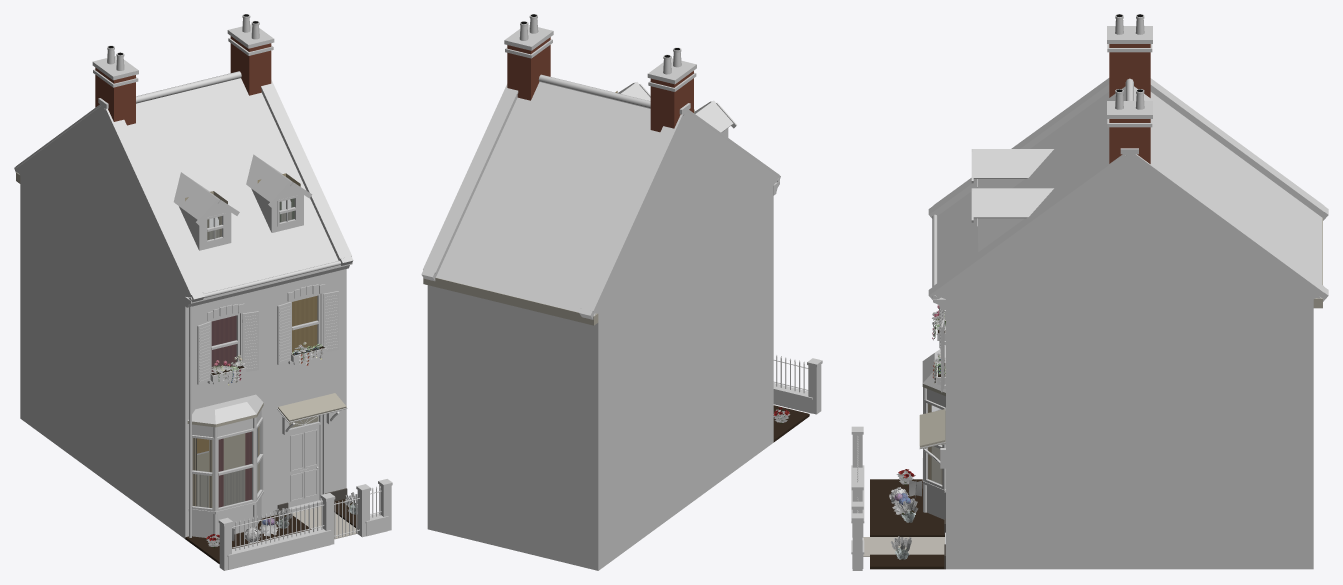
The model's file is Opposite_Opposite2_3.glb.
3 renders of one model, left to right at view 1: azimuth 30°, elevation 25°; view 2: azimuth 150°, elevation 25°; view 3: azimuth 270°, elevation 25°, orthographic. The views are drawn at different scales.
Parts seen in each view (by area): view 1: Opposite_Opposite2_3; view 2: Opposite_Opposite2_3; view 3: Opposite_Opposite2_3.
Part boxes in pixels (box(x1,y1,x2,y2)): Opposite_Opposite2_3: box(14, 14, 392, 570); Opposite_Opposite2_3: box(421, 14, 822, 570); Opposite_Opposite2_3: box(851, 14, 1328, 570).
Size of what is drawn, in the model's own units: 4.72 by 11.36 by 10.39.
